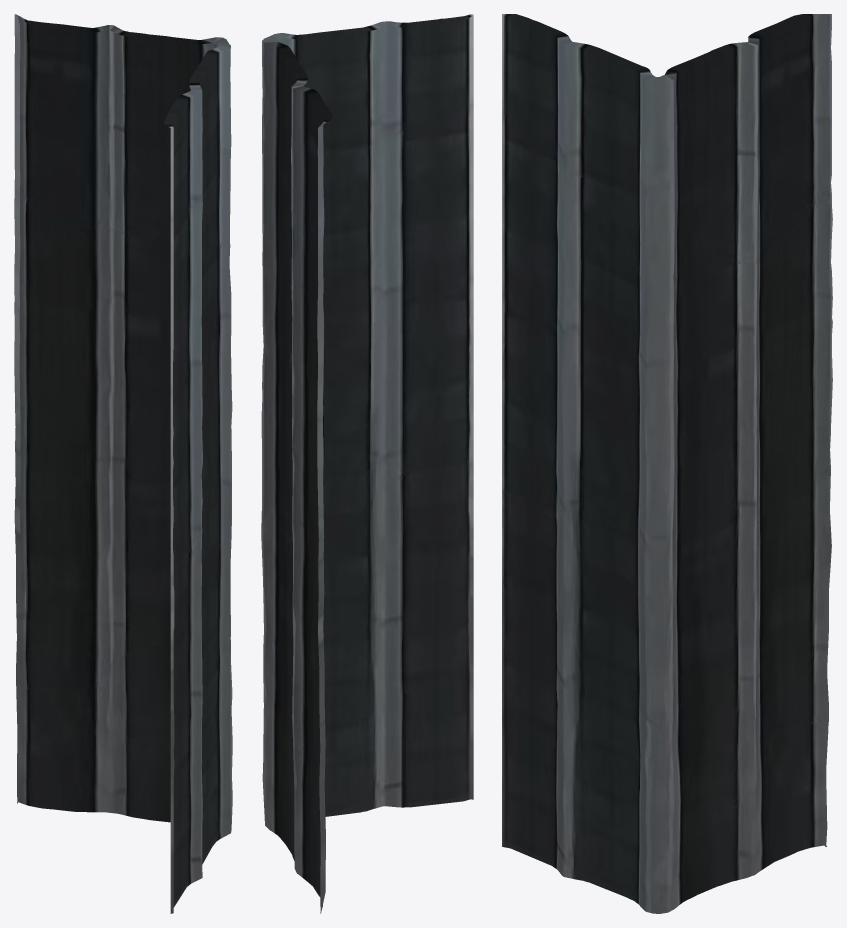
The model's file is z20-167779-405232-h1-yup-uvflip-v3-world.glb.
3 renders of one model, left to right at view 1: azimuth 30°, elevation 25°; view 2: azimuth 150°, elevation 25°; view 3: azimuth 270°, elevation 25°, orthographic. The views are drawn at different scales.
Size of the model in its own units: 6.96 by 39.12 by 14.08.
Materials: 1 (1 with a texture image).
